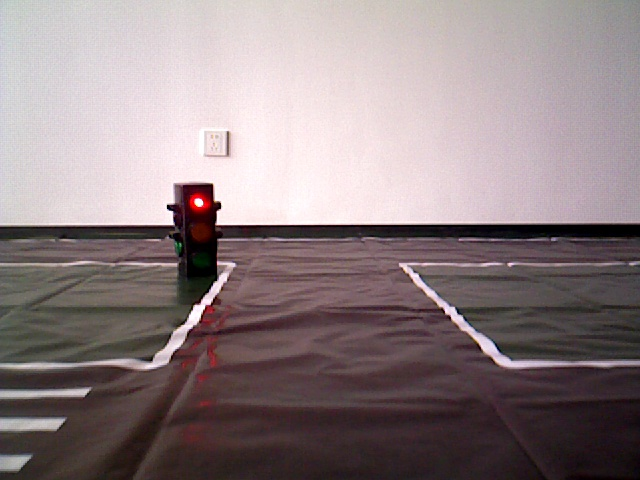red: (176, 184, 215, 279)
